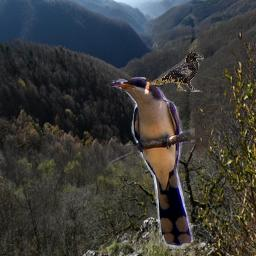Crow: (150, 52, 204, 92)
Cuckoo: (109, 77, 195, 249)
